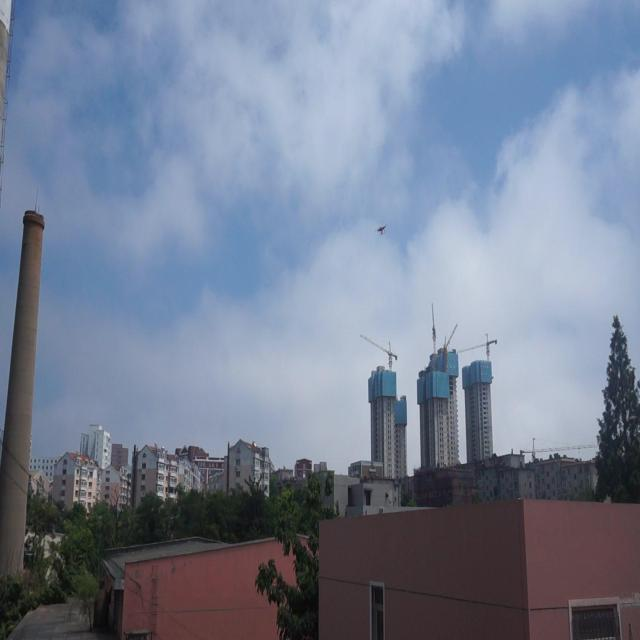drone: (376, 221, 386, 239)
